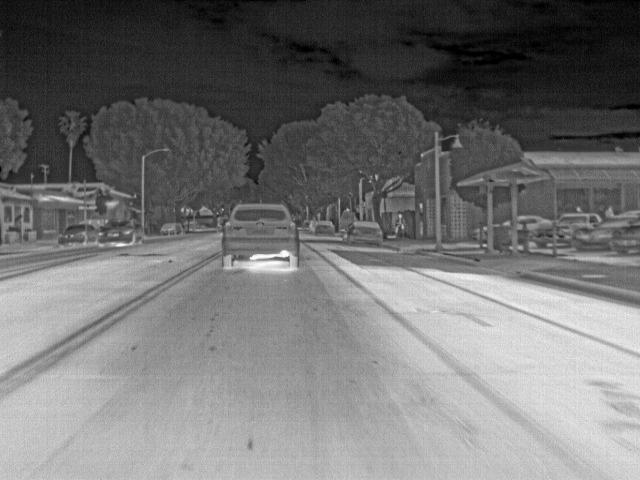car: (221, 202, 300, 272), (99, 221, 143, 247), (344, 220, 384, 248), (58, 223, 98, 248), (575, 224, 610, 250), (611, 226, 638, 257), (557, 211, 575, 251), (532, 224, 552, 249), (520, 211, 554, 225), (602, 211, 639, 223), (572, 209, 603, 223), (312, 220, 335, 236), (159, 220, 182, 236), (468, 225, 485, 245)
person: (394, 210, 407, 238)
